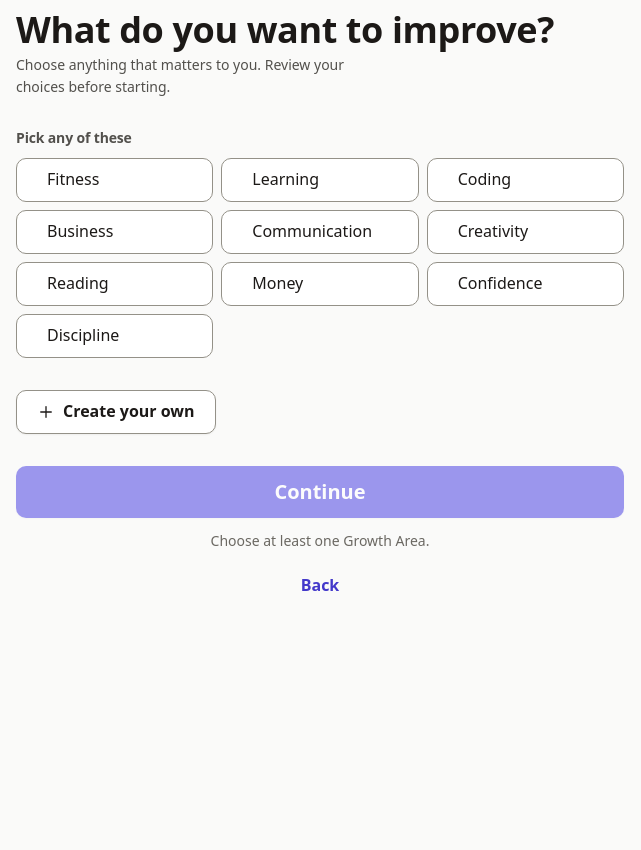
Test: creating your own growth area › refuses an empty name and says what to do
The width and height of the screenshot is (641, 850).
Click the button "Create your own". click: (116, 412)
box: top-left (16, 390), bottom-right (216, 434)
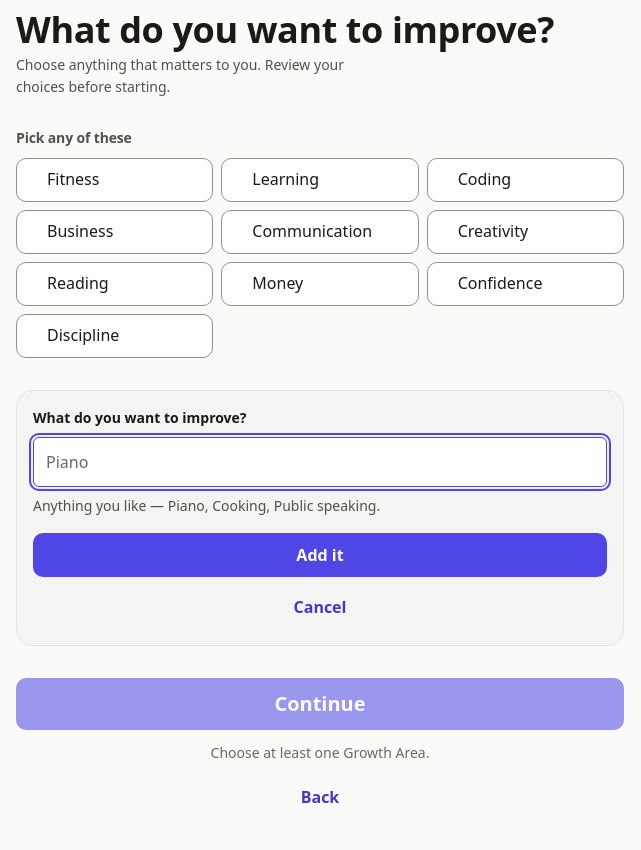
Click the button "Add it". click: (320, 555)
box: top-left (33, 533), bottom-right (607, 577)
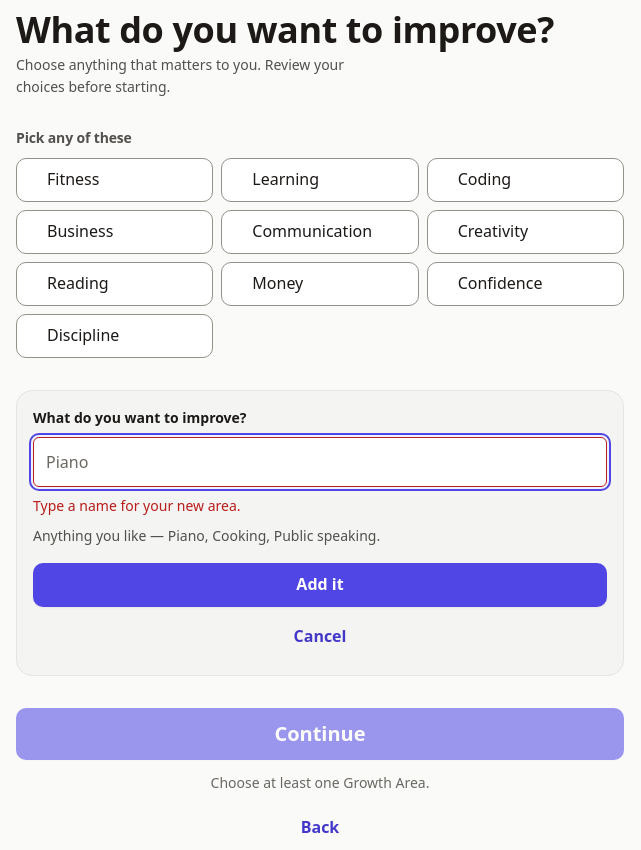
Expected: the text "Type a name for your new area." is shown, top-left (33, 496), bottom-right (241, 515)
